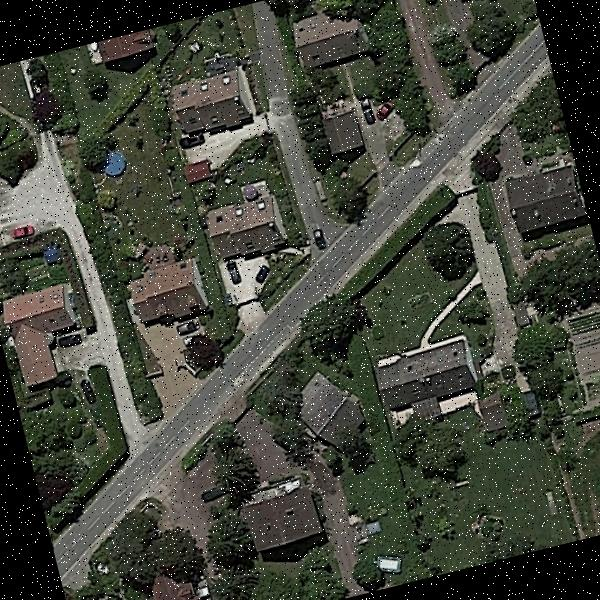Buildings: (374, 338, 478, 420), (0, 282, 83, 376), (231, 469, 318, 556), (168, 61, 254, 138), (123, 254, 213, 326), (202, 190, 284, 258), (504, 166, 584, 227), (300, 381, 360, 446), (295, 10, 363, 62), (96, 28, 154, 66), (323, 110, 360, 154), (153, 575, 204, 600), (478, 392, 506, 434)
